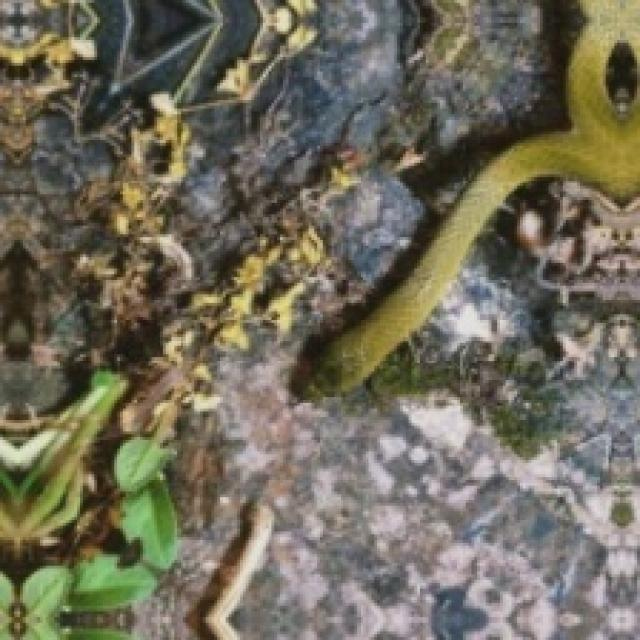gunthers philippine shrub snake: (309, 0, 637, 391)
